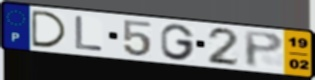2: (207, 26, 242, 68)
5: (121, 18, 153, 57)
D: (29, 9, 69, 49)
G: (159, 23, 197, 62)
L: (74, 15, 105, 53)
P: (243, 30, 286, 69)
